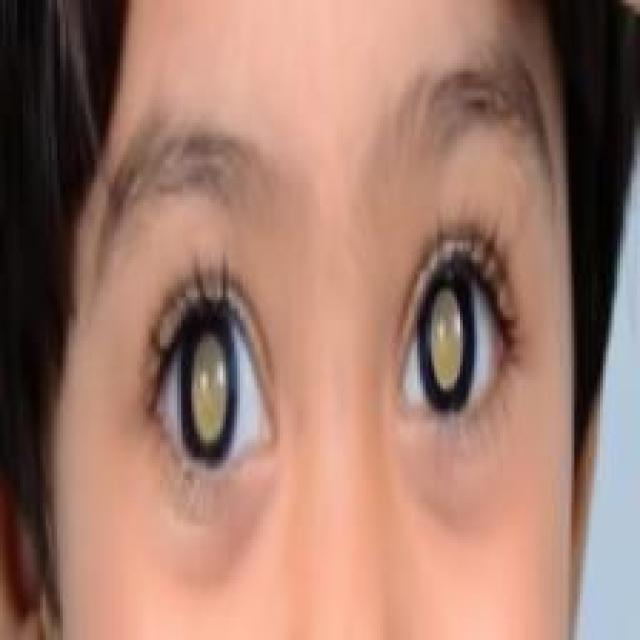reflexo-alterado: (119, 280, 299, 489), (394, 229, 536, 472)
